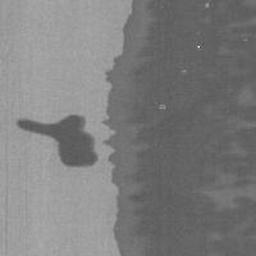Water spot: (100, 0, 256, 256), (14, 113, 101, 169)
